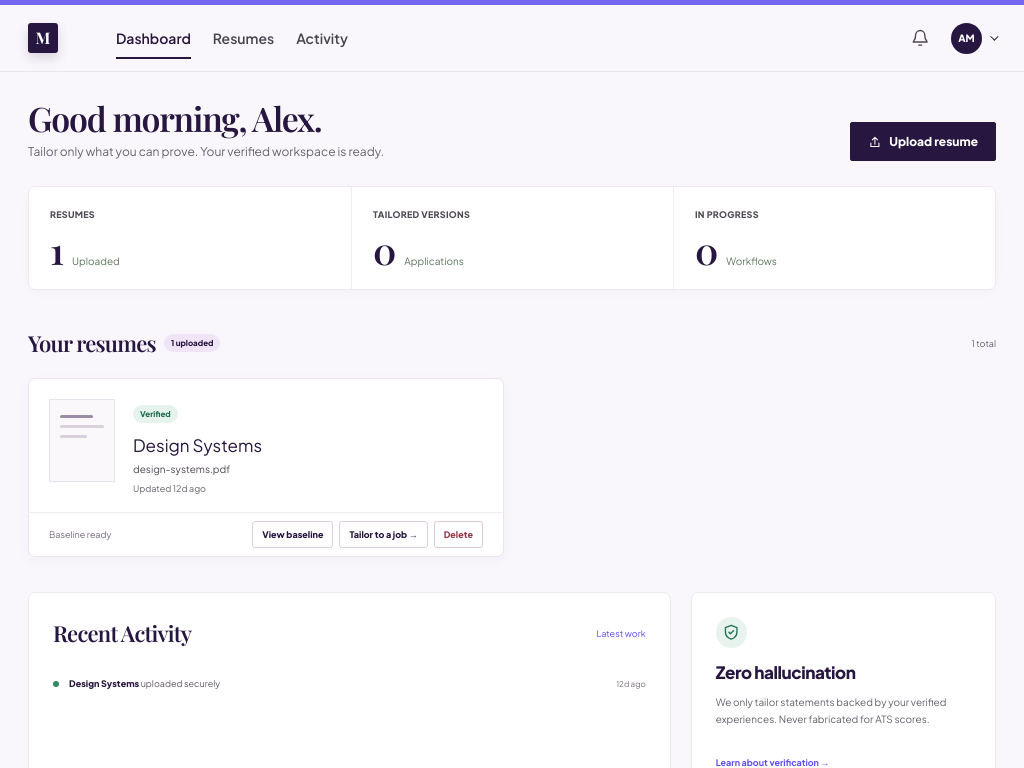
Test: DashboardPage › keeps the confirmation open when resume deletion fails
Click the button with aria-label "Delete Design Systems".
click(458, 534)  # box [434,521,483,548]
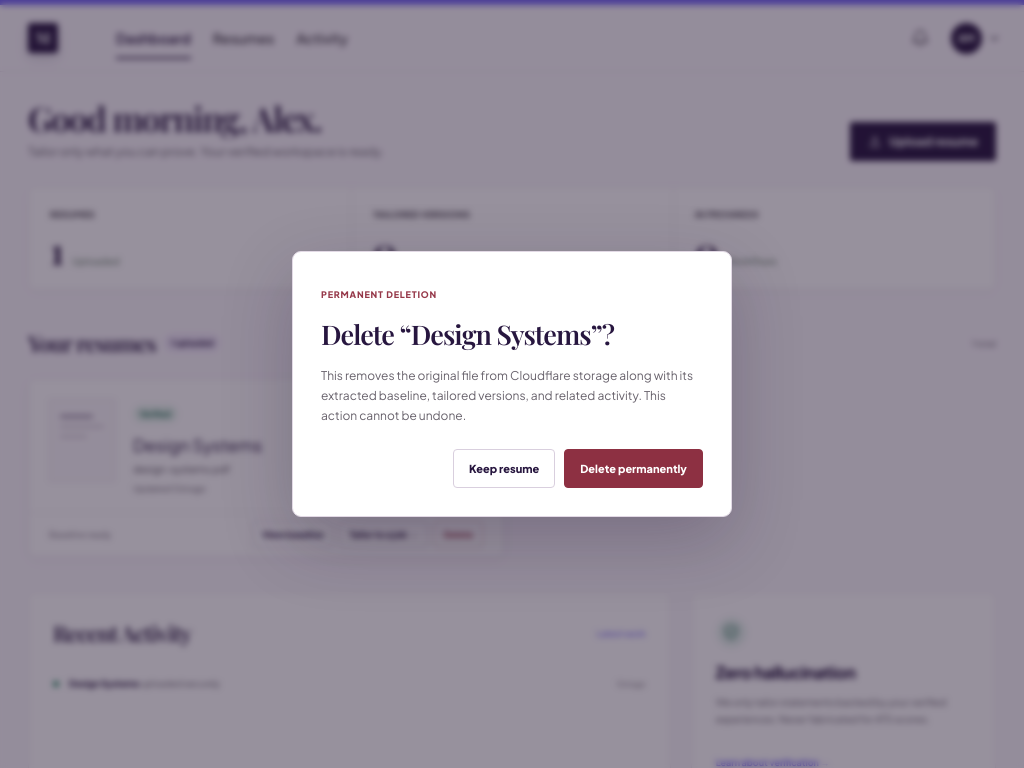
Click the button "Delete permanently".
click(634, 469)  # box [564,449,703,488]
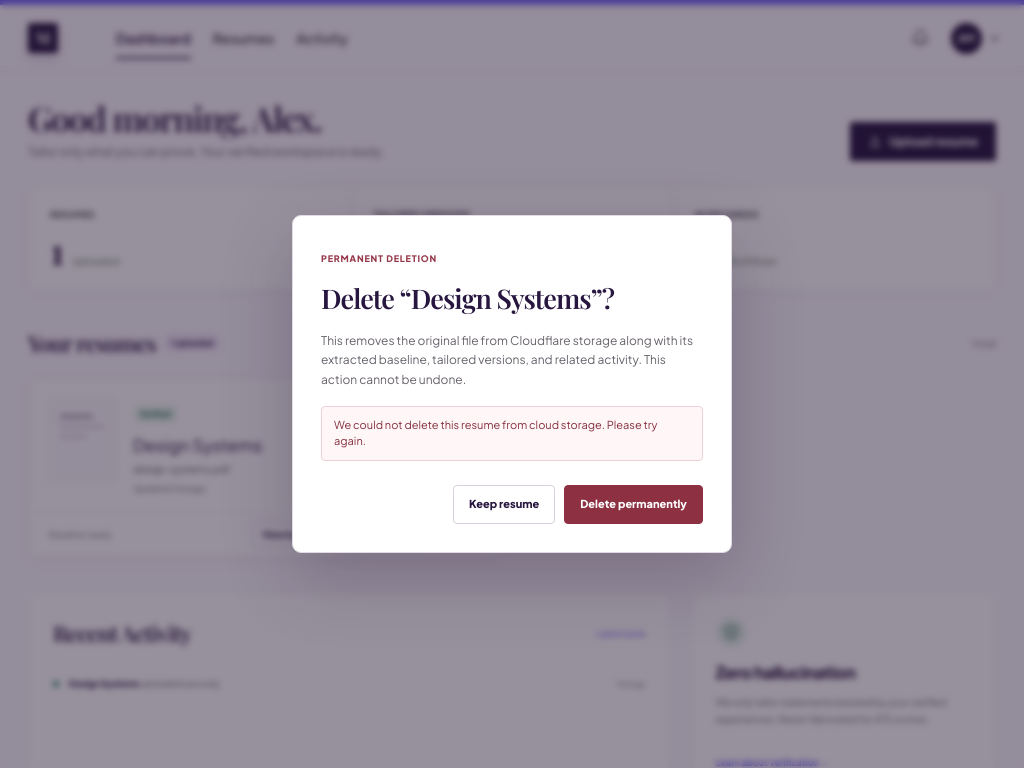
Check: the button "Delete permanently" is shown, box [564,485,703,524]
Check: the text "We could not delete this resume from cloud storage. Please try again." is shown, box [321,406,703,461]
